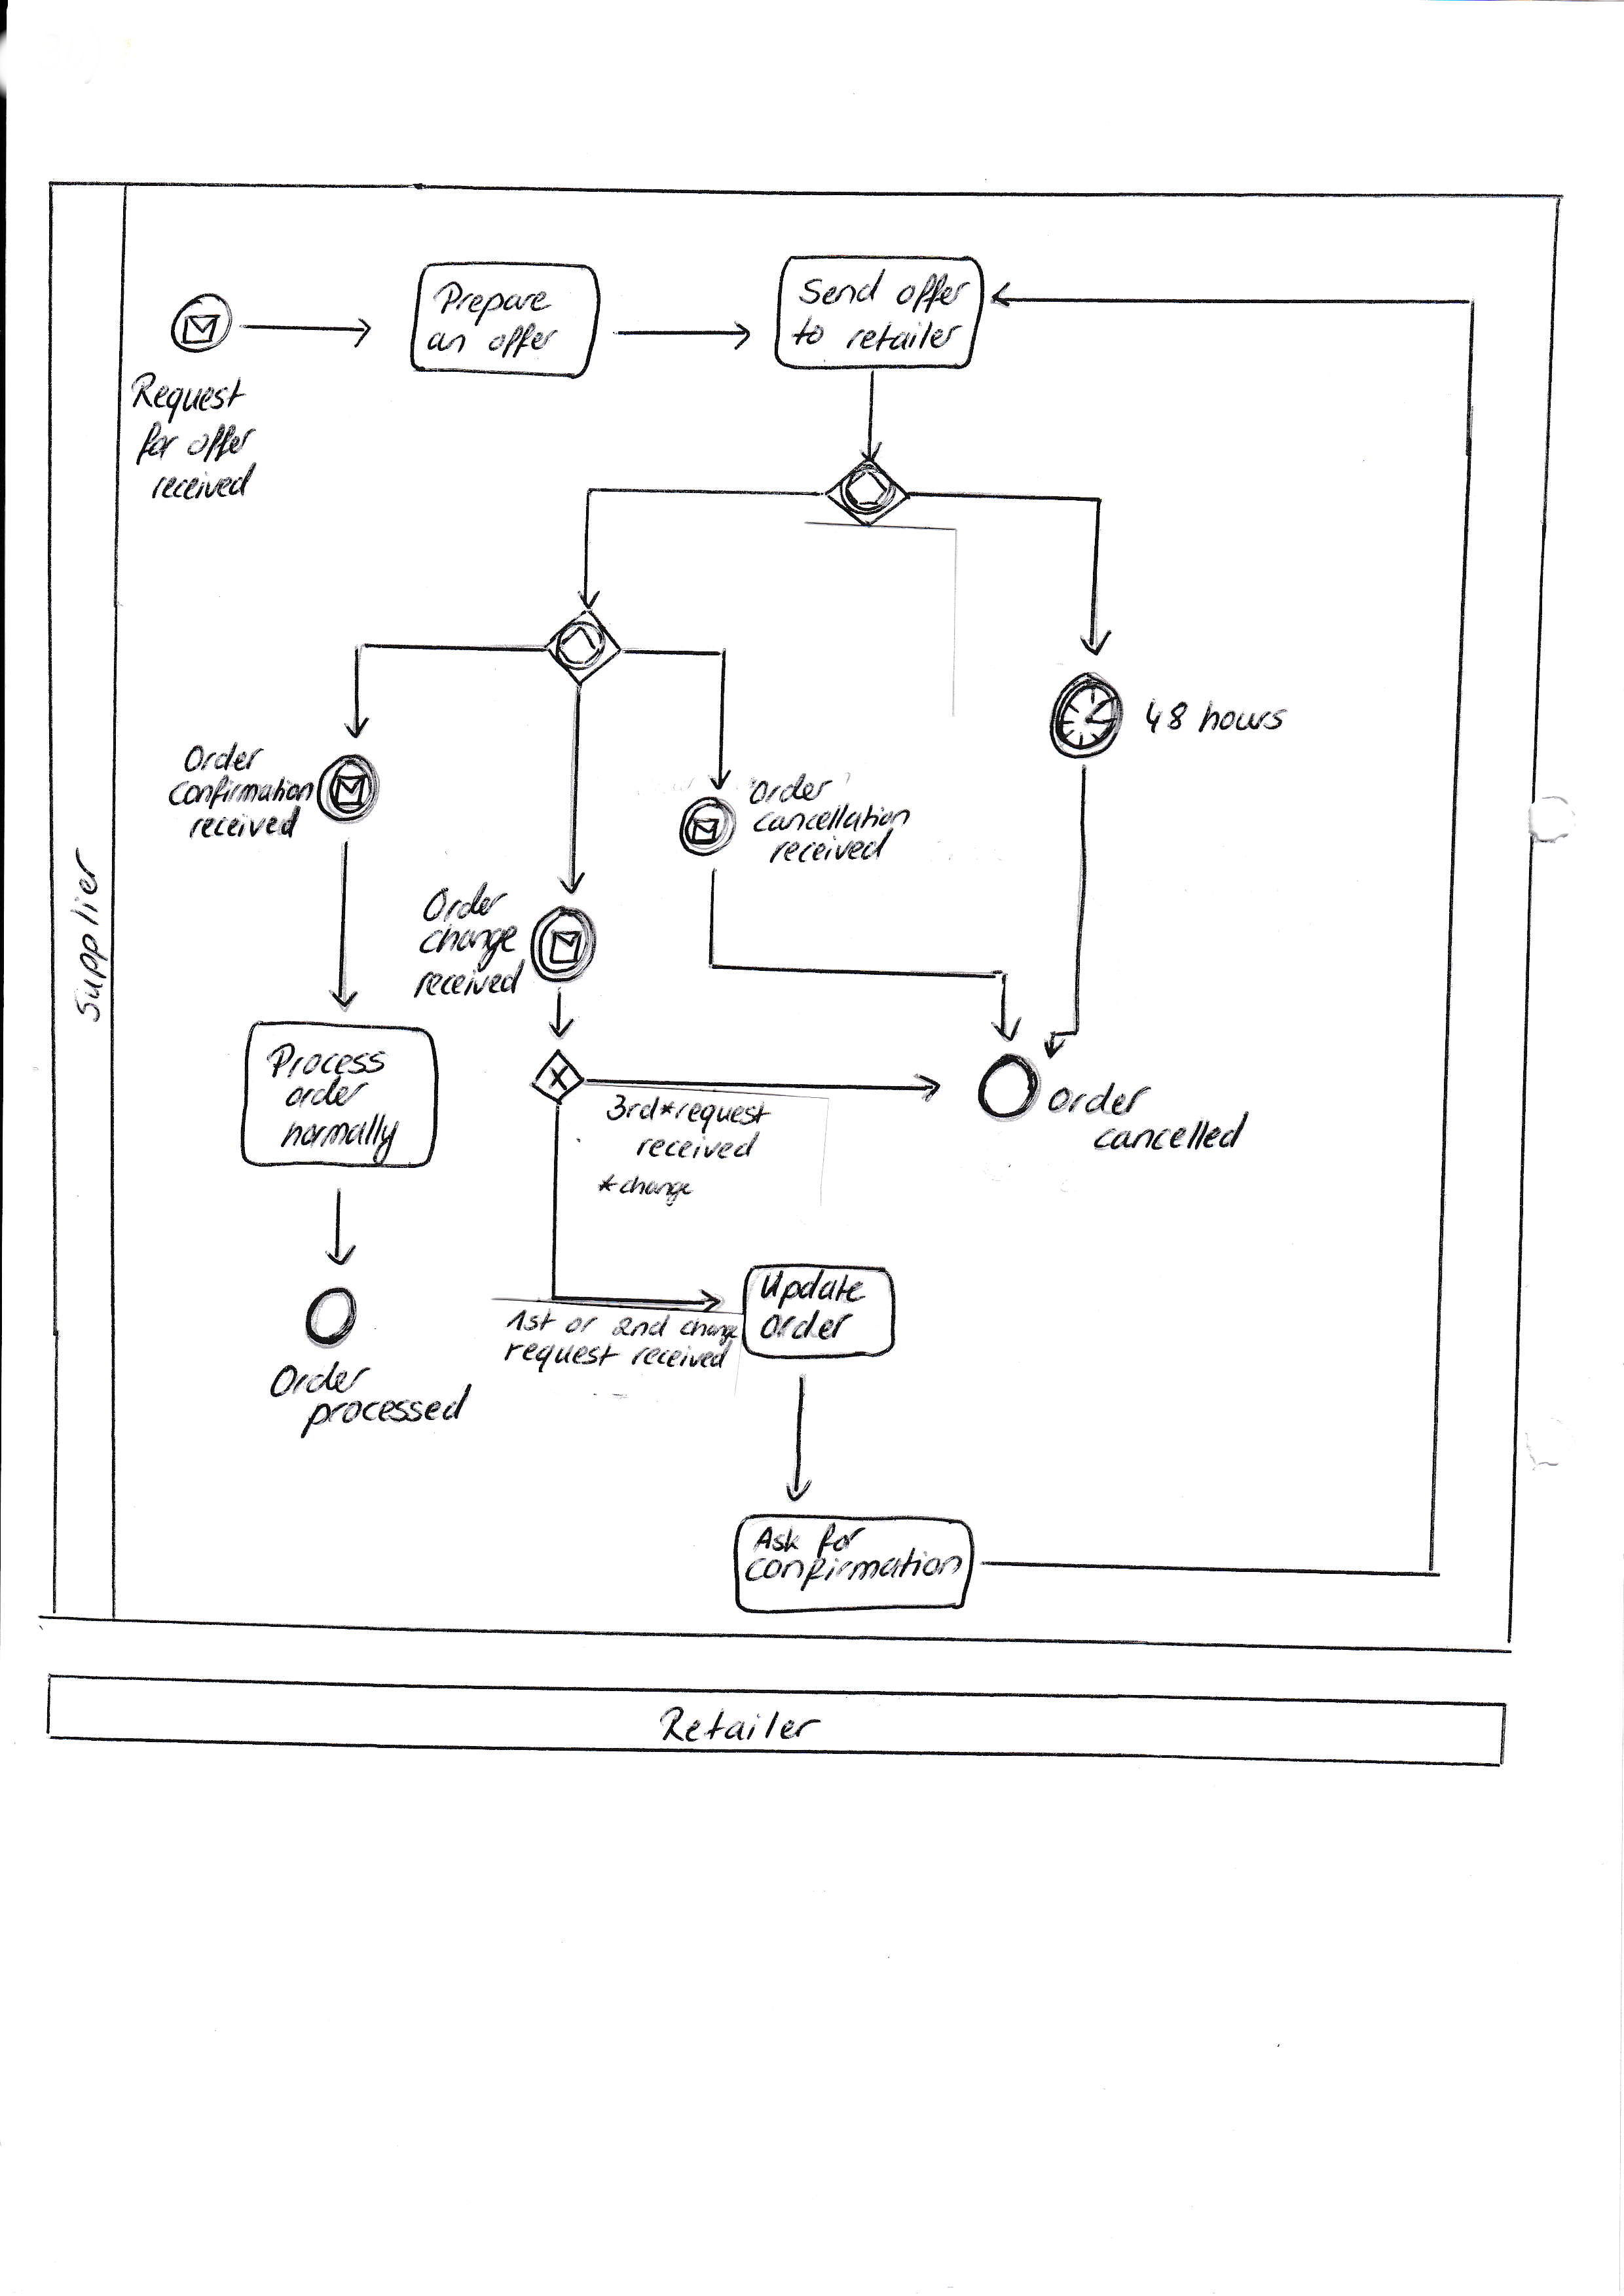*change: (596, 1166, 698, 1205)
1st: (506, 1309, 552, 1337)
2nd: (615, 1309, 666, 1337)
3rd*: (608, 1084, 677, 1128)
48: (1141, 696, 1195, 738)
Ask: (750, 1518, 805, 1555)
Order: (761, 1307, 858, 1349), (422, 882, 501, 921), (185, 741, 262, 775), (750, 775, 837, 803)
Prepare: (436, 283, 550, 320)
Process: (281, 1045, 374, 1082)
Request: (128, 372, 246, 420)
Retailer: (659, 1708, 817, 1741)
Send: (800, 272, 881, 304)
Update: (759, 1272, 870, 1303)
an: (431, 325, 468, 362)
cancellation: (750, 803, 914, 836)
cancelled: (1088, 1116, 1253, 1154)
change: (402, 919, 533, 961), (671, 1312, 758, 1347)
confirmation: (743, 1548, 965, 1590), (167, 782, 311, 805)
for: (132, 420, 179, 464), (821, 1516, 861, 1548)
hours: (1200, 699, 1292, 738)
normally: (283, 1117, 397, 1152)
offer: (896, 272, 972, 314), (186, 418, 258, 462), (487, 323, 566, 358)
or: (562, 1307, 601, 1335)
order: (264, 1361, 380, 1397), (279, 1075, 371, 1114), (1049, 1080, 1149, 1116)
processed: (301, 1393, 464, 1428)
received: (172, 810, 315, 847), (638, 1126, 763, 1165), (144, 467, 260, 506), (772, 833, 882, 868), (413, 964, 524, 998), (631, 1339, 740, 1372)
request: (504, 1340, 620, 1375), (684, 1094, 765, 1131)
retailer: (844, 320, 963, 355)
supplier: (67, 847, 105, 1019)
to: (789, 316, 828, 353)
